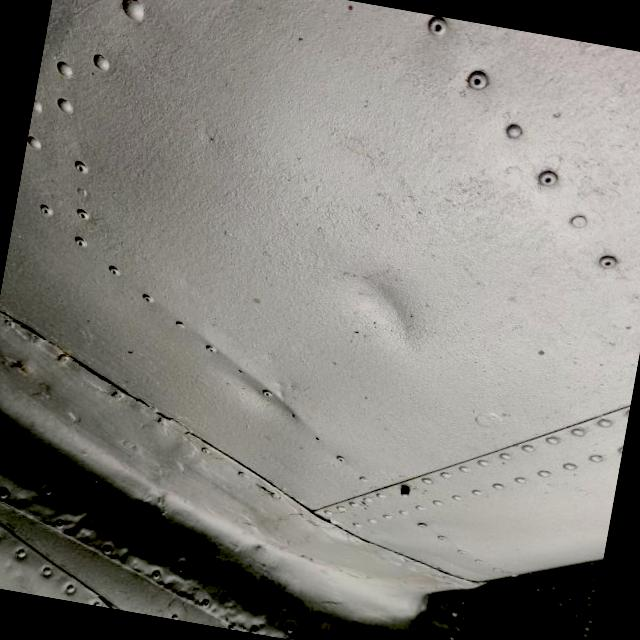dent: (303, 215, 471, 375), (191, 322, 333, 460)
